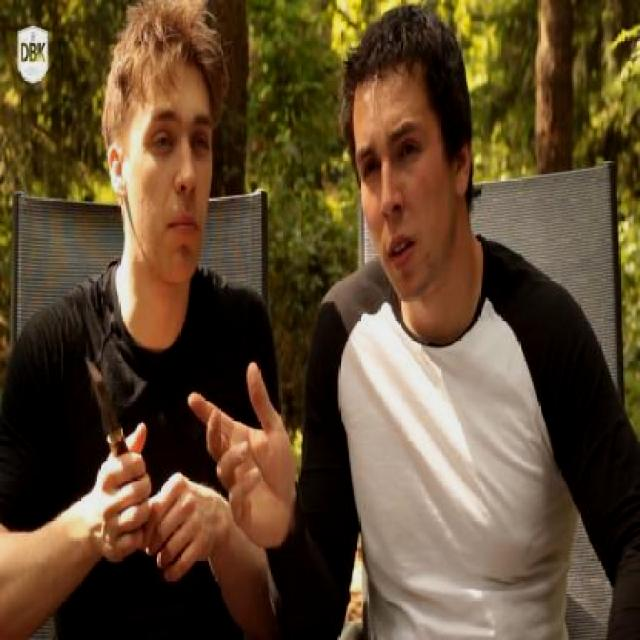knife: (77, 323, 152, 523)
